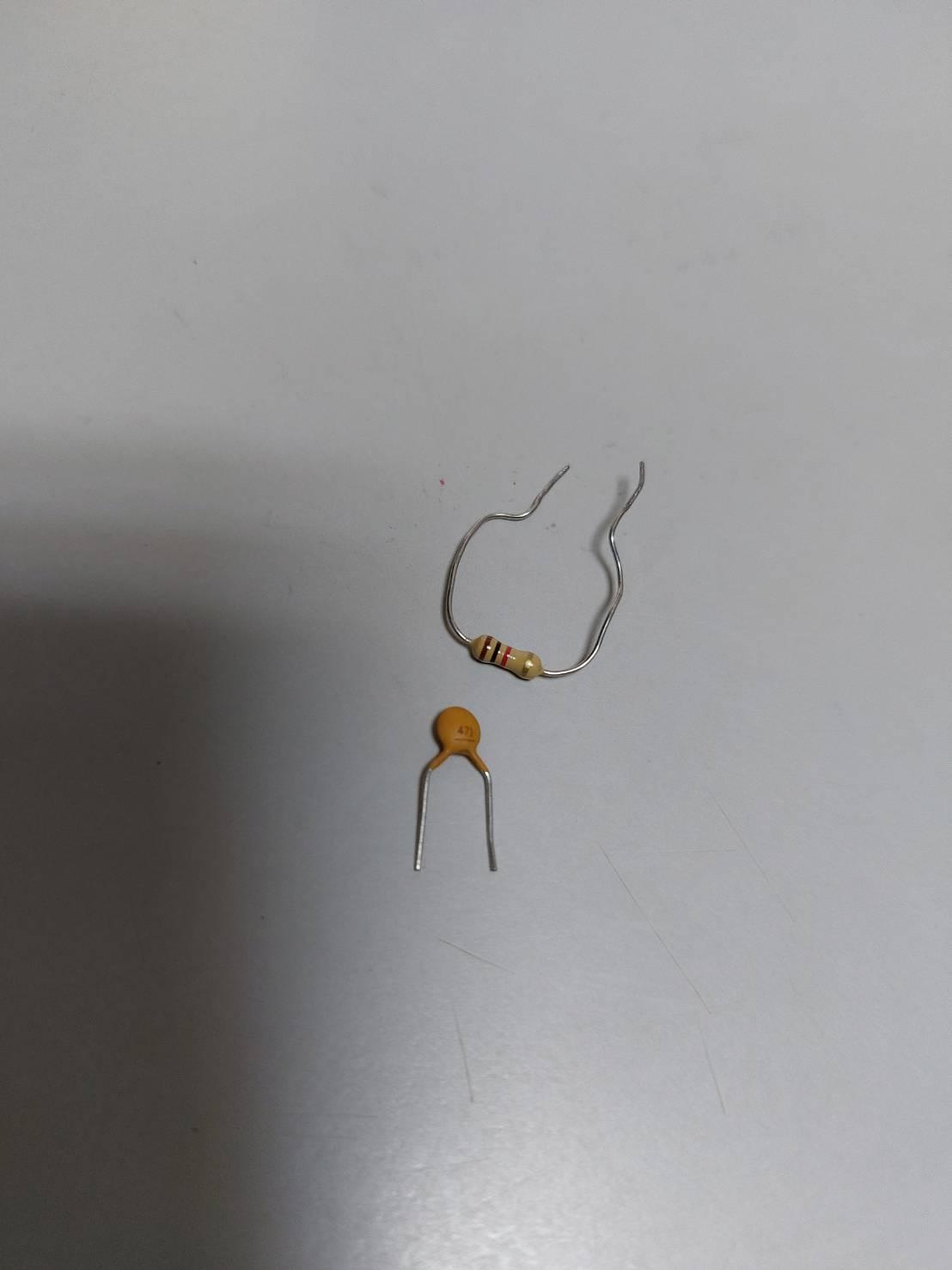resistor: (468, 633, 546, 684)
